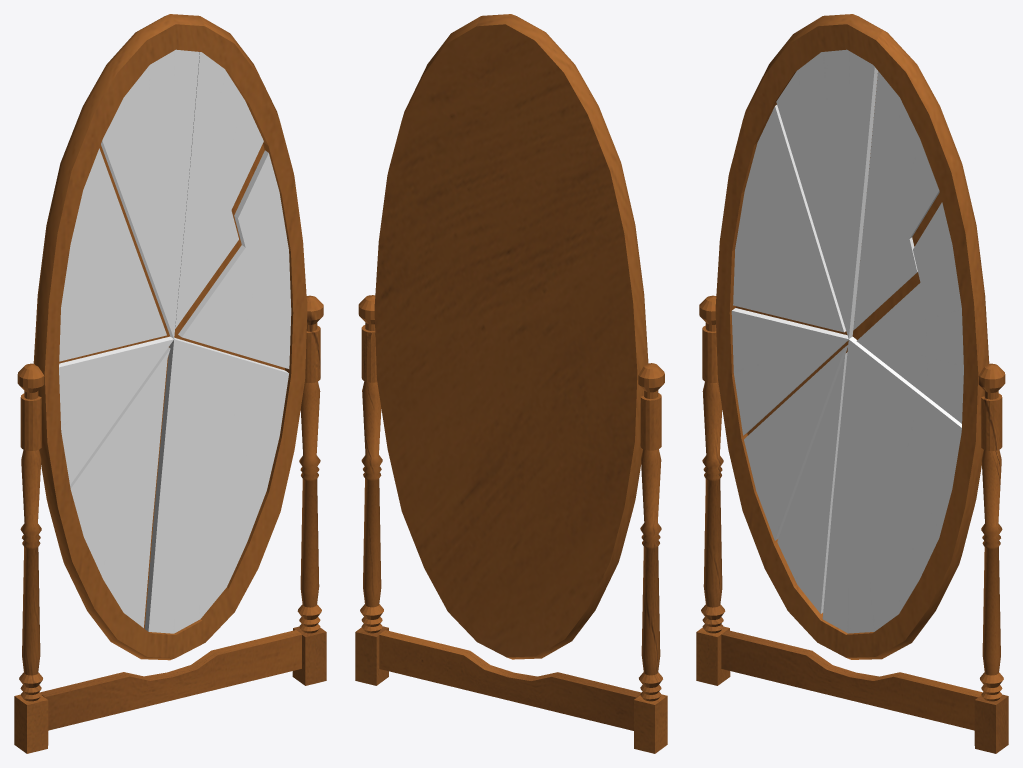
The model's file is Mirror_break.fbx.
The picture shows the model from 3 angles, left to right: view 1: azimuth 30°, elevation 25°; view 2: azimuth 150°, elevation 25°; view 3: azimuth 330°, elevation 25°; orthographic projection.
Visible parts, largest first — view 1: Cylinder001, Object001, Object002, Object005, Object004, Object003, Object006; view 2: Cylinder001; view 3: Cylinder001, Object001, Object002, Object004, Object005, Object006, Object003.
Part boxes in pixels (x1=…): Cylinder001: x1=14, y1=14, x2=326, y2=753; Object001: x1=59, y1=49, x2=288, y2=633; Object002: x1=59, y1=148, x2=166, y2=361; Object005: x1=178, y1=150, x2=291, y2=368; Object004: x1=175, y1=52, x2=263, y2=328; Object003: x1=70, y1=347, x2=170, y2=574; Object006: x1=101, y1=359, x2=167, y2=627; Cylinder001: x1=355, y1=14, x2=667, y2=753; Cylinder001: x1=696, y1=14, x2=1008, y2=753; Object001: x1=731, y1=49, x2=961, y2=633; Object002: x1=733, y1=105, x2=845, y2=332; Object004: x1=853, y1=71, x2=939, y2=329; Object005: x1=856, y1=202, x2=963, y2=423; Object006: x1=777, y1=352, x2=847, y2=613; Object003: x1=744, y1=345, x2=848, y2=540.
Size of the model in its own units: 102 by 224 by 7.95.
